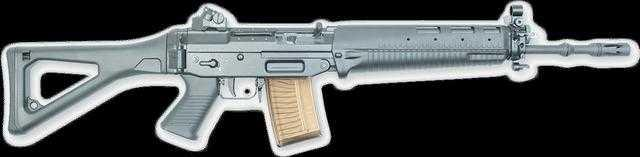heavyweapon: (0, 8, 628, 157)
